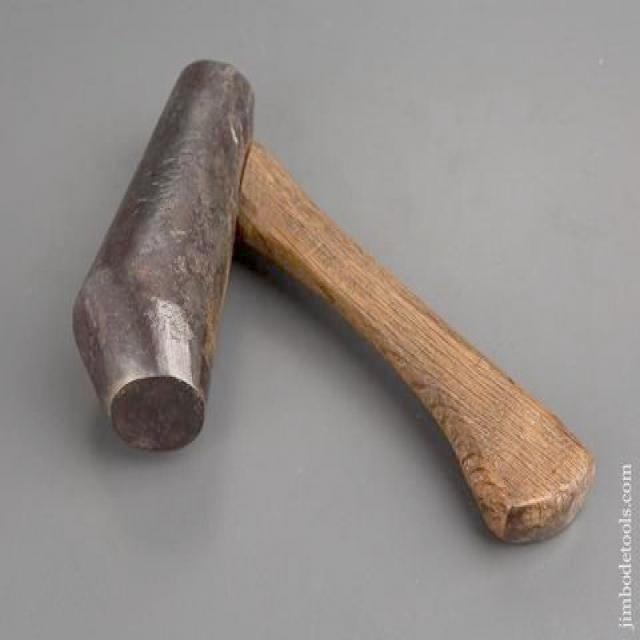hammer: (61, 34, 604, 562)
